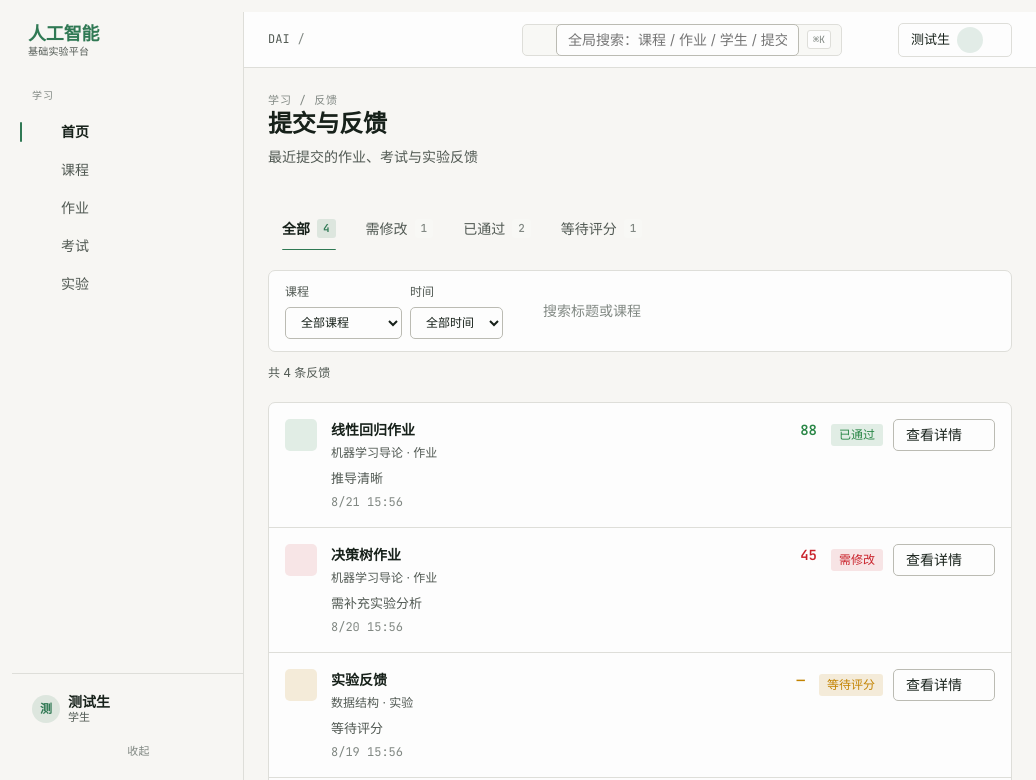
Scenario: 提交与反馈 FeedbackListView（参考图 01） › 状态标签：全部/需修改/已通过/等待评分 按计算状态过滤
Click the tab with class "status-tab" showing "需修改 1" at (399, 229), box x1=352 y1=208 x2=447 y2=250
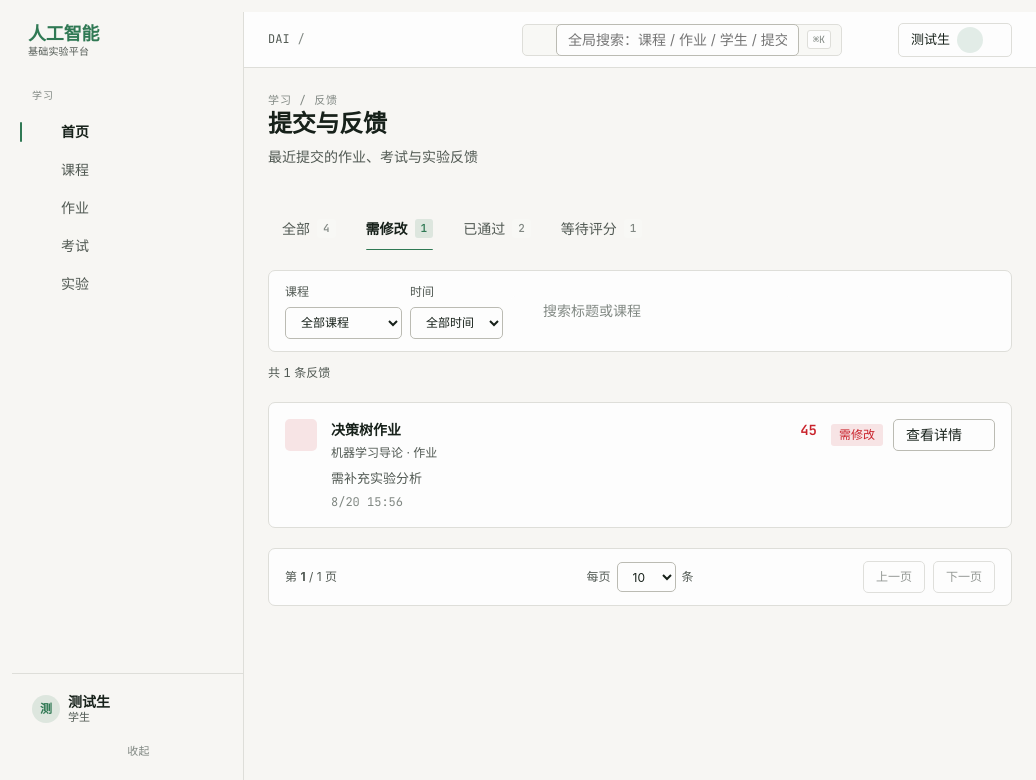
Expected: the text "决策树作业" is shown, x1=331 y1=419 x2=401 y2=441
Result: the number of elements with class "feedback-row" is 1 at x1=269 y1=403 x2=1011 y2=527
Click the tab with class "status-tab" showing "已通过 2" at (497, 229), box x1=449 y1=208 x2=545 y2=250
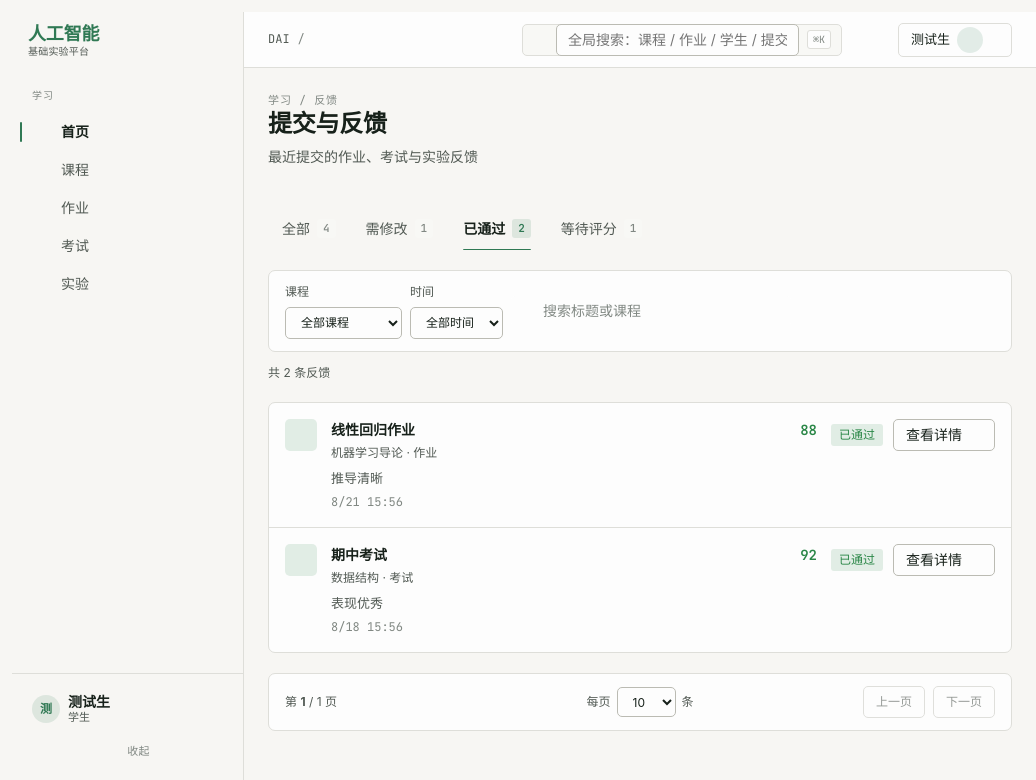
Result: the number of elements with class "feedback-row" is 2 at x1=269 y1=403 x2=1011 y2=528; x1=269 y1=528 x2=1011 y2=652
Click the tab with class "status-tab" showing "等待评分 1" at (602, 229), box x1=547 y1=208 x2=656 y2=250
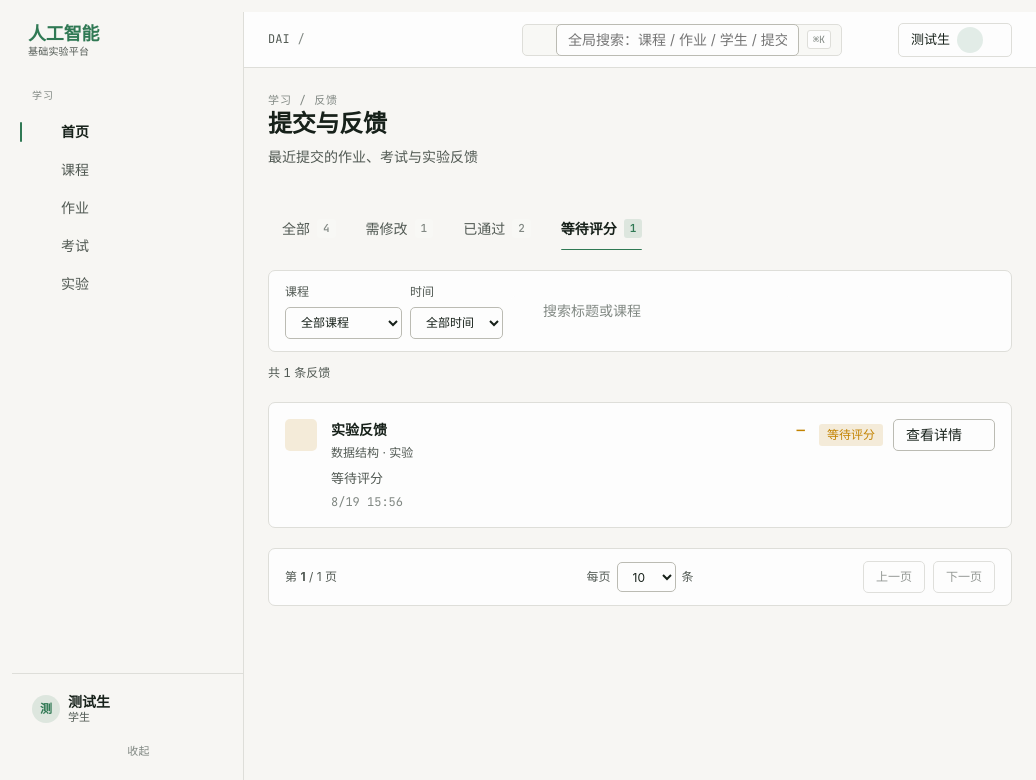
Expected: the text "实验反馈" is shown, x1=268 y1=148 x2=478 y2=165
Result: the number of elements with class "feedback-row" is 1 at x1=269 y1=403 x2=1011 y2=527
